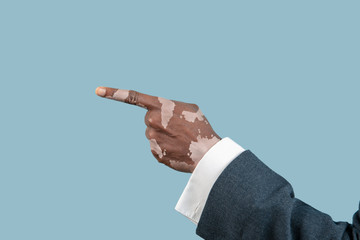vitiligo: (146, 96, 213, 163)
